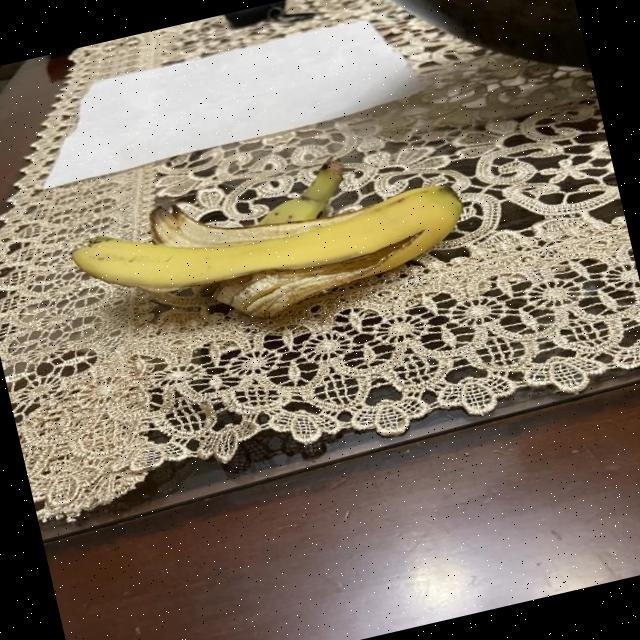banana-peel: (61, 134, 476, 358)
